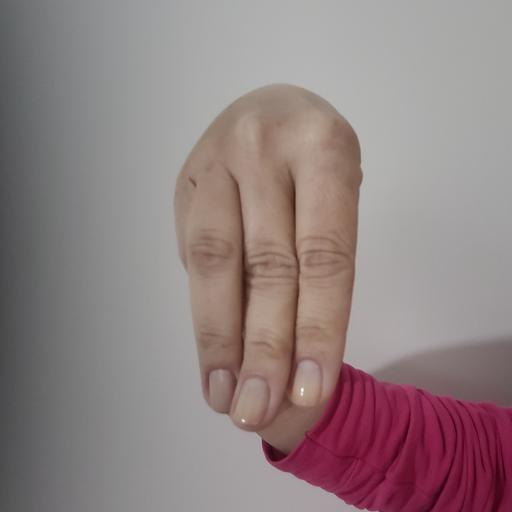M: (174, 83, 362, 431)
